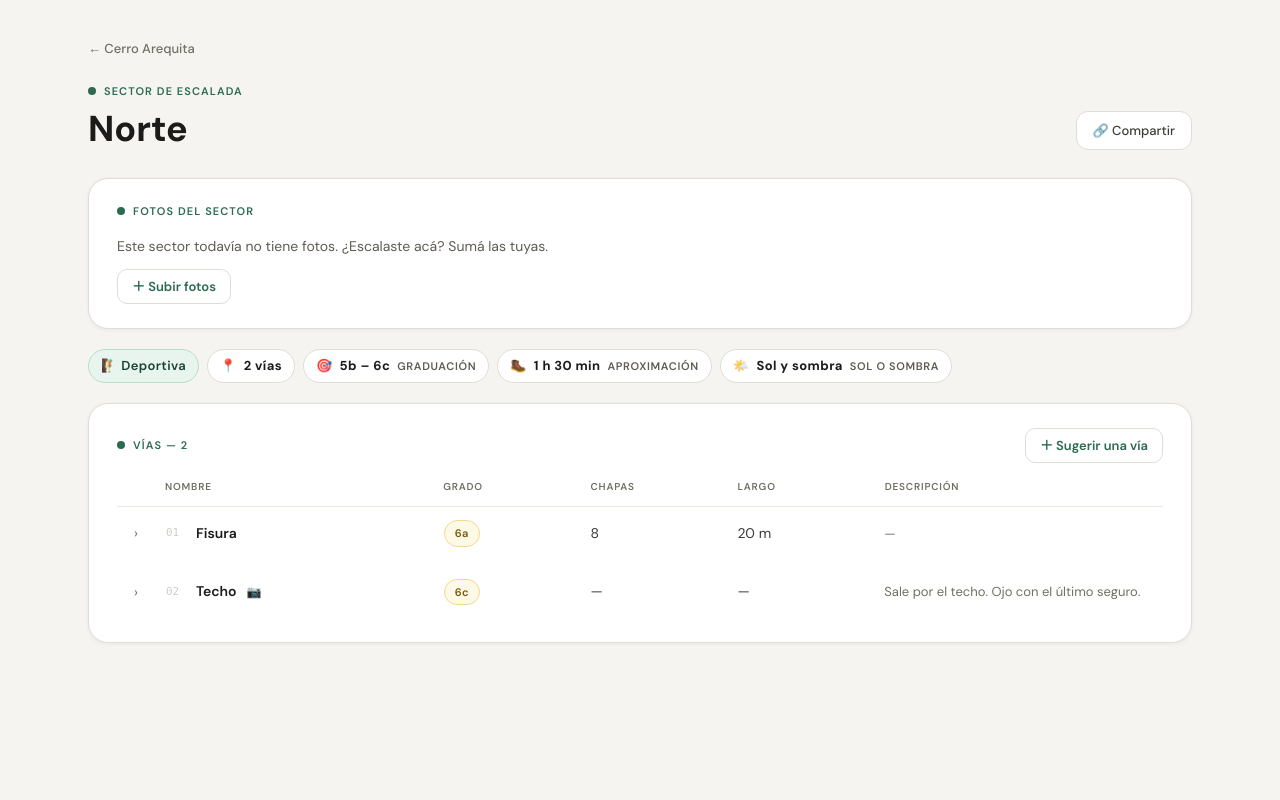
Scenario: fotos del sector y de las vías › una vía sin fotos invita a subir
Click the button "› 01 Fisura 6a 8 20 m —" at [216, 533], box [118,508,1162,559]
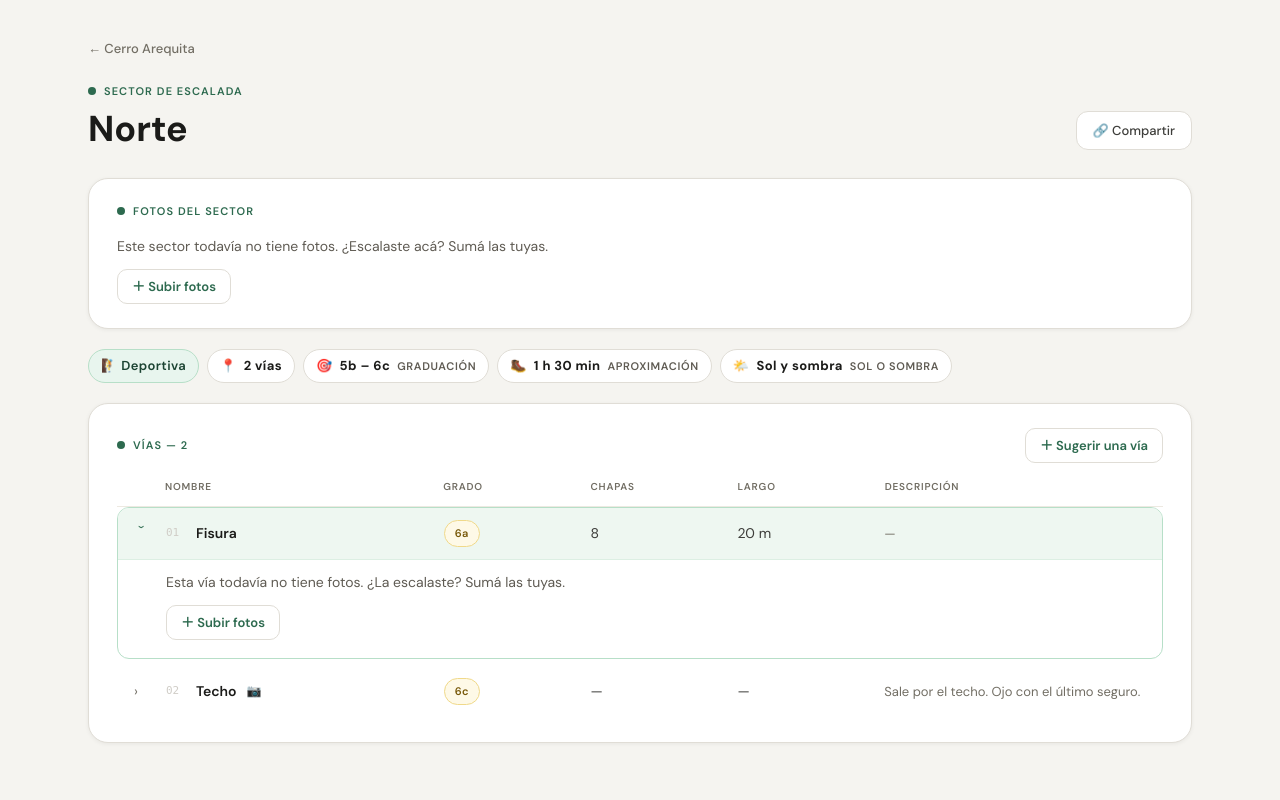
Check: the text "Esta vía todavía no tiene fotos. ¿La escalaste? Sumá las tuyas." is shown, box [166,573,565,591]
